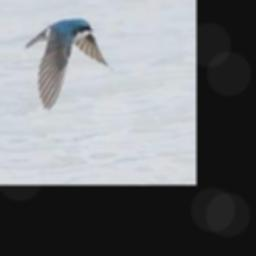Swallow: (24, 17, 111, 108)
